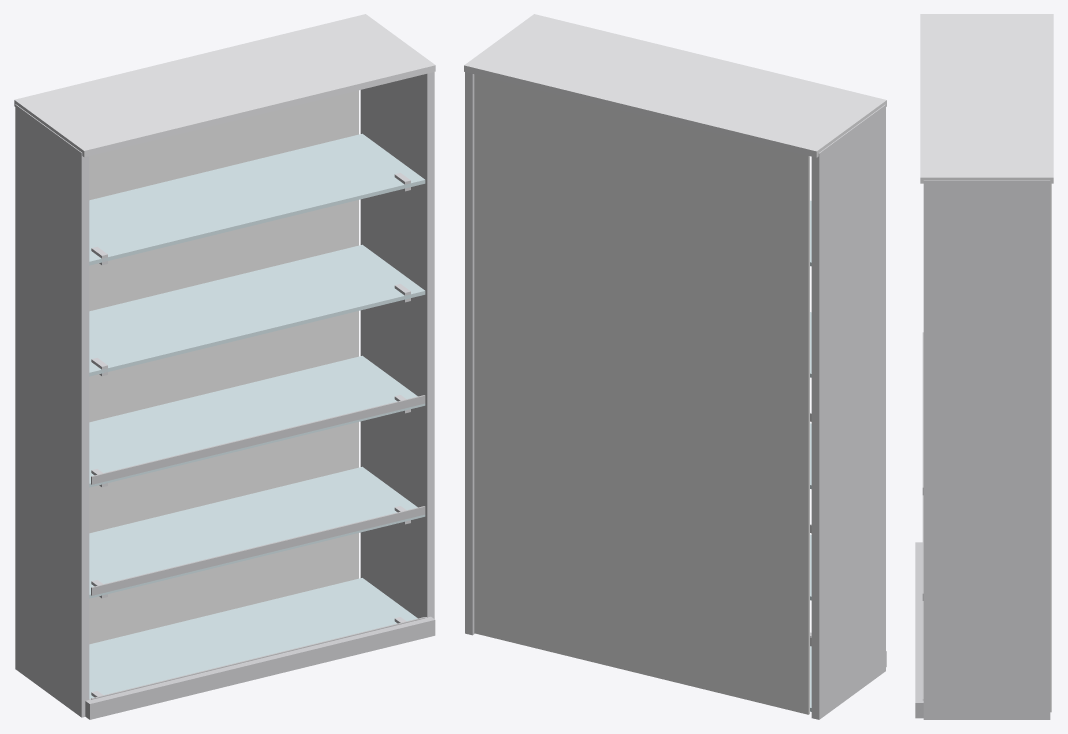
File: display_shelf.glb
The picture shows the model from 3 angles, left to right: view 1: azimuth 30°, elevation 25°; view 2: azimuth 150°, elevation 25°; view 3: azimuth 270°, elevation 25°; orthographic projection. The views are drawn at different scales.
Parts seen in each view (by area): view 1: glass_shelves, sides, back, top, kick_plate, price_rails, brackets; view 2: back, sides, top; view 3: sides, top, kick_plate, back, price_rails.
Part boxes in pixels (box(x1,y1,x2,y2)): glass_shelves: box(89, 133, 425, 698); sides: box(15, 72, 434, 717); back: box(89, 90, 358, 644); top: box(14, 14, 435, 157); kick_plate: box(85, 616, 435, 719); price_rails: box(91, 395, 425, 699); brackets: box(91, 173, 410, 697); back: box(474, 74, 809, 714); sides: box(465, 72, 885, 719); top: box(464, 14, 886, 157); sides: box(923, 180, 1050, 719); top: box(920, 14, 1053, 183); kick_plate: box(915, 542, 923, 718); back: box(1050, 183, 1051, 712); price_rails: box(922, 332, 923, 700).
Bounding box in the file's own units: 1.16 × 1.79 × 0.415.
